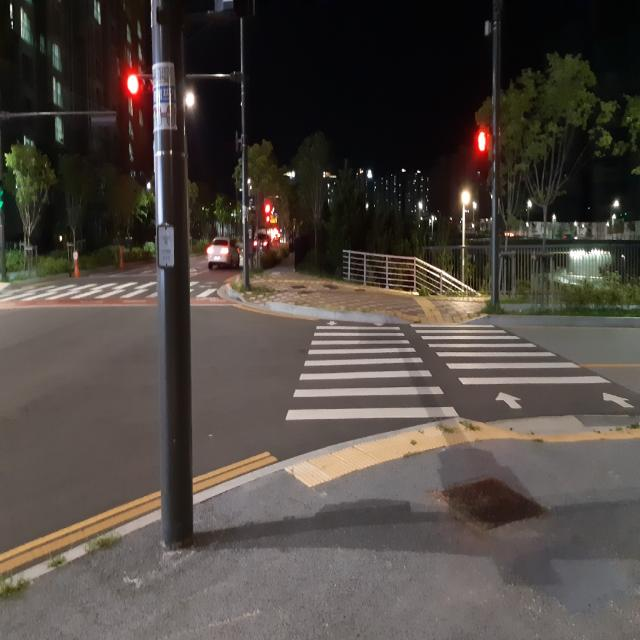빨간불: (474, 128, 490, 175)
횡단보도: (285, 321, 634, 421)
